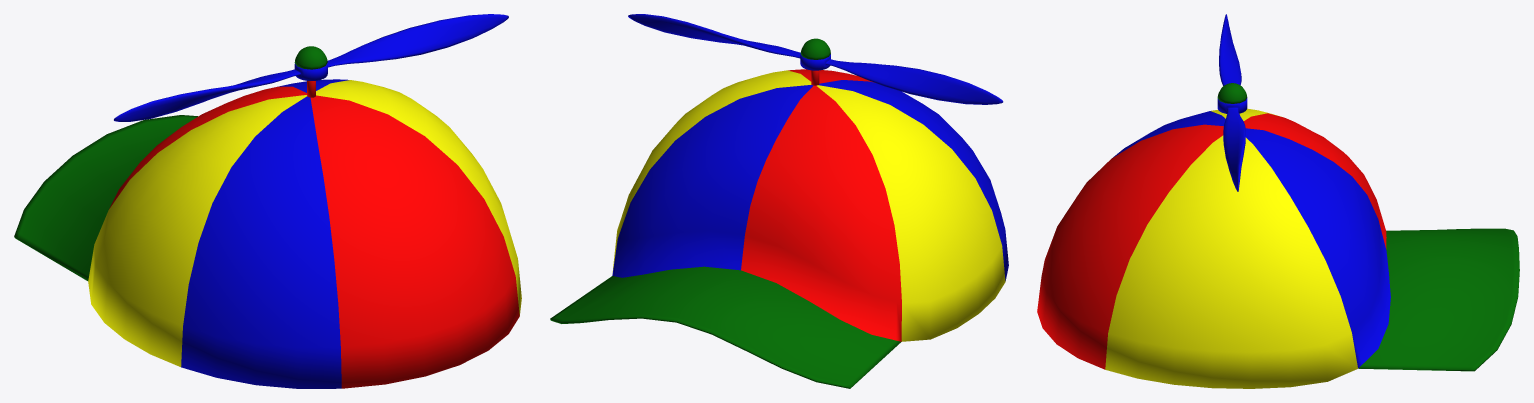
Rendered from HelicopterHat 1.fbx.
The picture shows the model from 3 angles, left to right: view 1: azimuth 30°, elevation 25°; view 2: azimuth 150°, elevation 25°; view 3: azimuth 270°, elevation 25°; orthographic projection. The views are drawn at different scales.
Visible parts, largest first — view 1: hat; view 2: hat; view 3: hat.
Part boxes in pixels (<box>): hat: <box>14,14,521,388</box>; hat: <box>550,14,1008,388</box>; hat: <box>1037,14,1519,388</box>.
Bounding box in the file's own units: 207 × 124 × 240.
